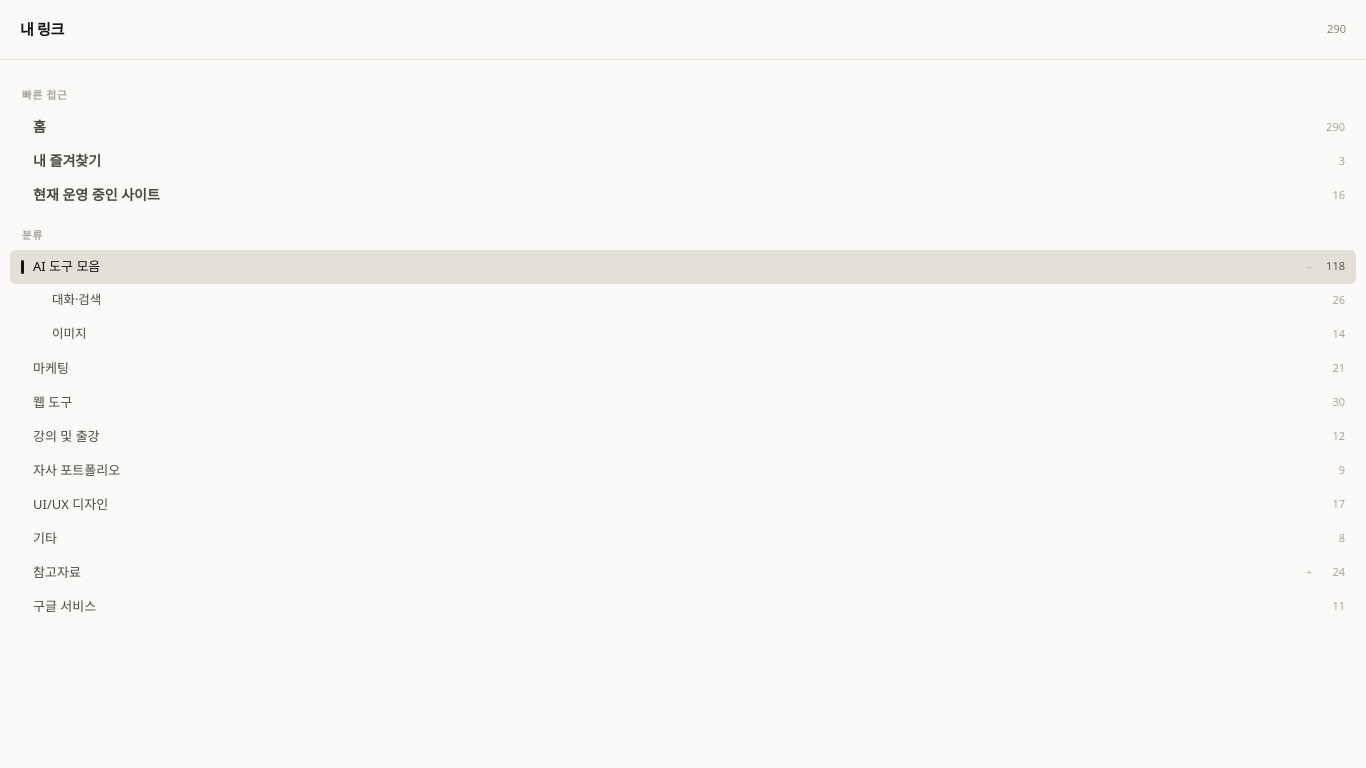
Test: Sidebar › 행 공통 치수 · 활성 표시 (usePathname) › 활성 상위도 사용자가 직접 접으면 접힌 채로 둔다
Step 1. Click the button named "AI 도구 모음 하위 분류 접기" → (1309, 266), box [1304,250,1314,284]
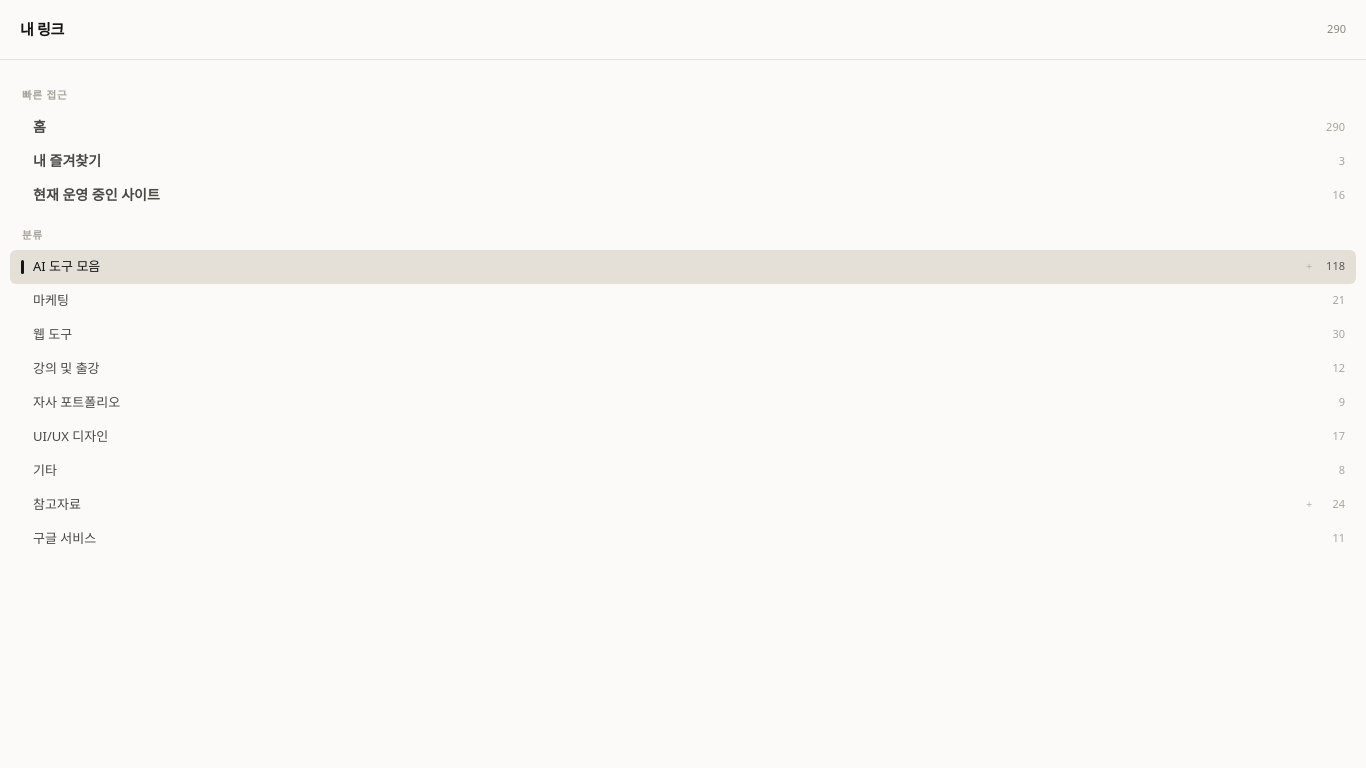
Check: the link "대화·검색" is gone
